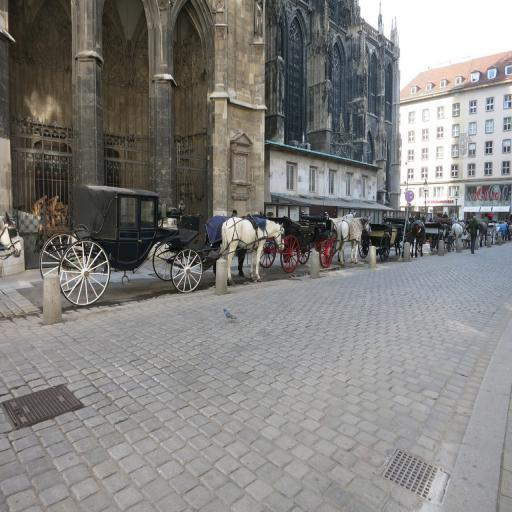horse: (216, 216, 284, 285), (334, 215, 372, 266), (409, 212, 426, 258), (476, 215, 490, 246), (449, 222, 468, 242)
